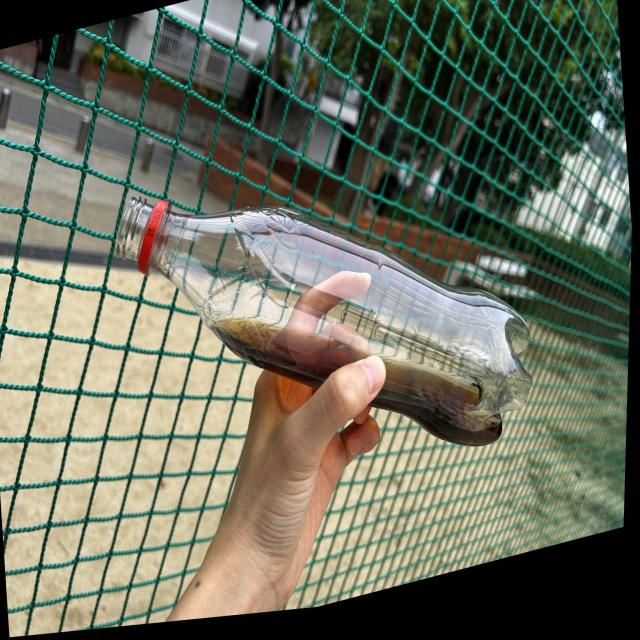low: (115, 198, 531, 446)
